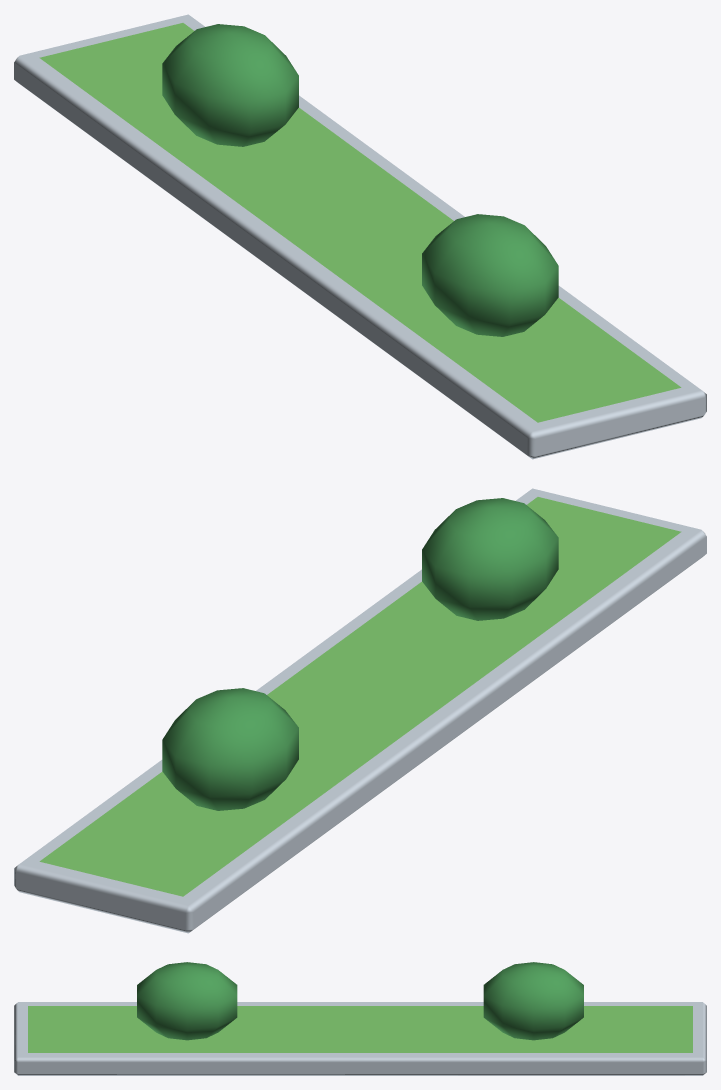
The model's file is CM_Road_ParkingDivider.fbx.
3 views of the same model, one above another, from view 1: azimuth 30°, elevation 25°; view 2: azimuth 150°, elevation 25°; view 3: azimuth 270°, elevation 25° (orthographic). The views are drawn at different scales.
Visible parts, largest first — view 1: Body; view 2: Body; view 3: Body.
Part boxes in pixels (x1,y1,x2,y2): Body: (14, 14, 706, 459); Body: (14, 488, 706, 933); Body: (14, 962, 706, 1075).
Size of the model in its own units: 4 by 20 by 2.6.
1 material, 1 textured.
